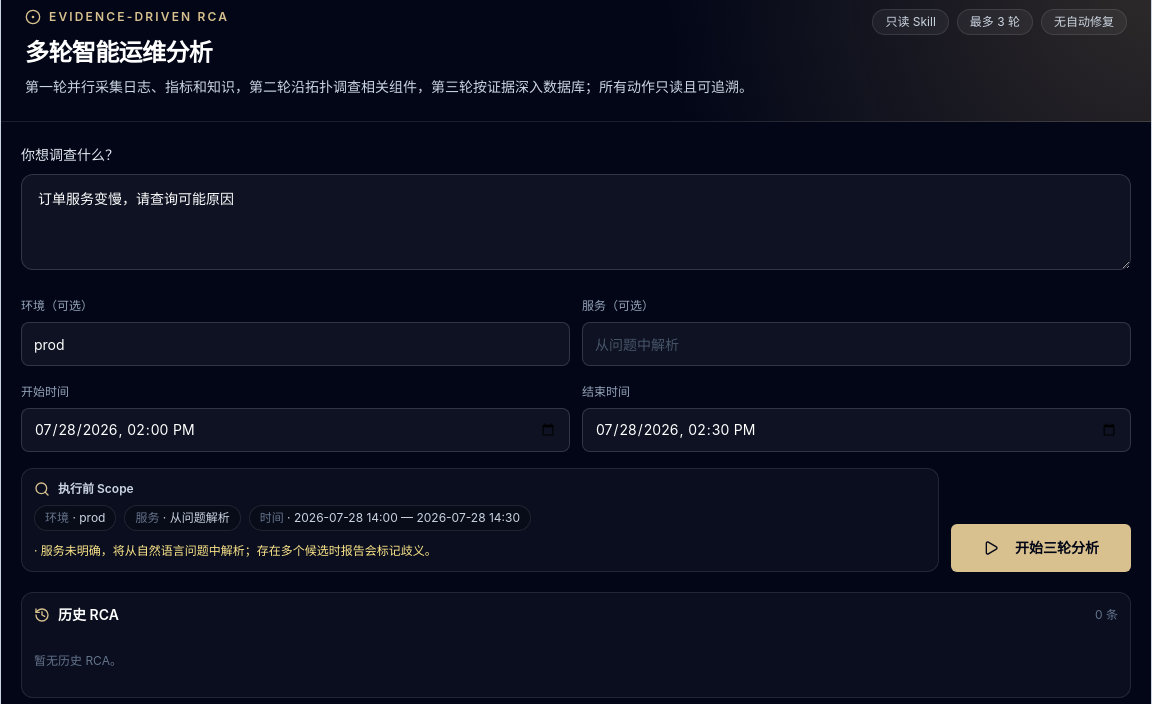
it: MultiRoundRCAWorkbench › renders permission failures distinctly
Click the button "开始三轮分析": (1041, 548) x1=951 y1=524 x2=1131 y2=572
(page scrolled)
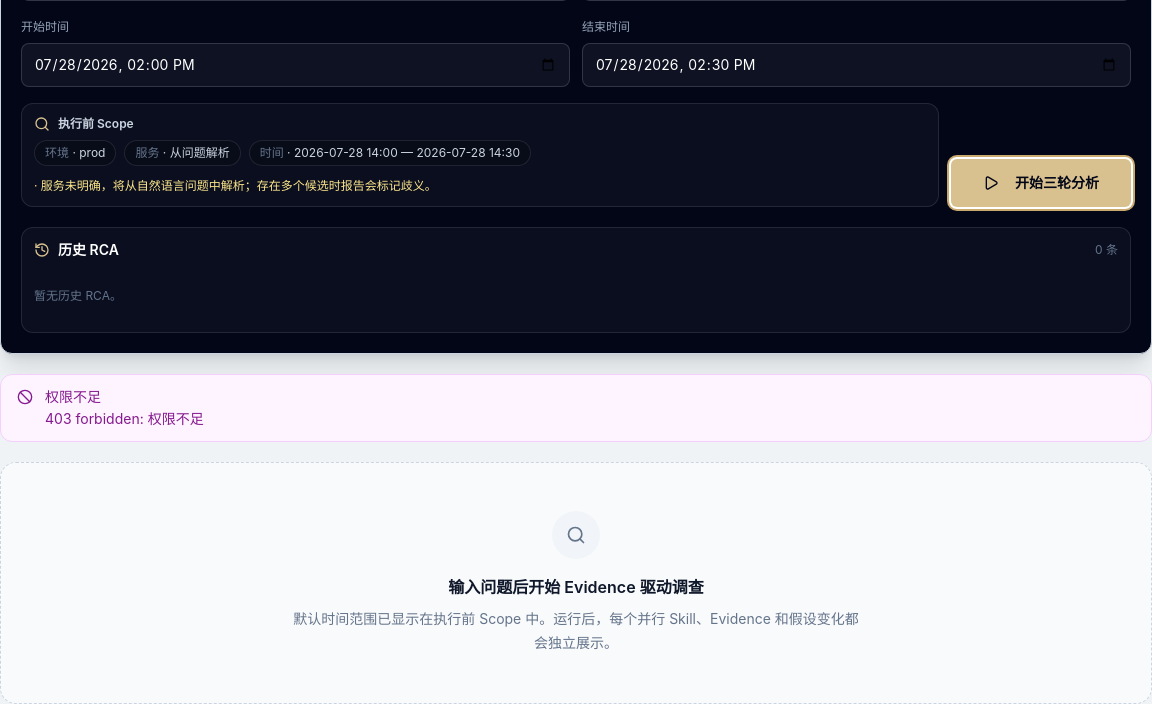
Now the text "权限不足" is shown, box x1=45 y1=388 x2=101 y2=405
Now the text "403 forbidden: 权限不足" is shown, box x1=45 y1=409 x2=204 y2=429
